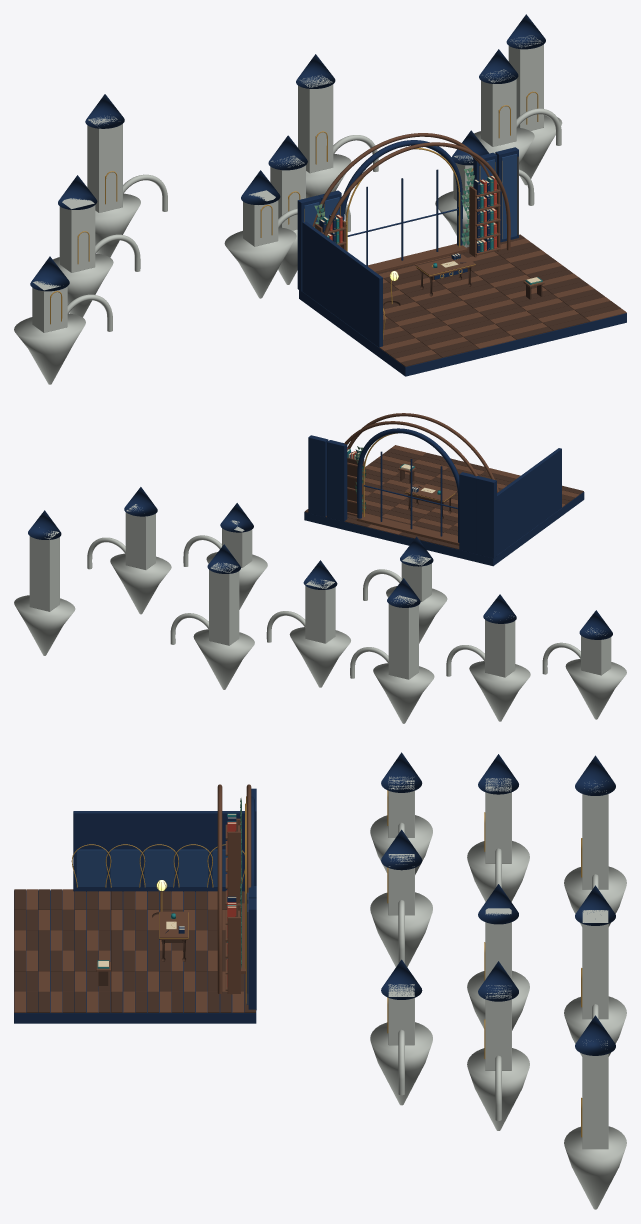
Rendered from attic-atelier.glb.
3 views of the same model, one above another, from view 1: azimuth 30°, elevation 25°; view 2: azimuth 150°, elevation 25°; view 3: azimuth 270°, elevation 25° (orthographic). The views are drawn at different scales.
Parts seen in each view (by area): view 1: Attic_Atelier_Atelier_stone, Attic_Atelier_Atelier_navy, Attic_Atelier_Atelier_wood, Attic_Atelier_Atelier_wood2, Attic_Atelier_Atelier_gold, Attic_Atelier_Atelier_blue, DeskPuzzle_Atelier_wood2, Attic_Atelier_Atelier_coat, Attic_Atelier_Atelier_teal; view 2: Attic_Atelier_Atelier_stone, Attic_Atelier_Atelier_navy, Attic_Atelier_Atelier_wood, Attic_Atelier_Atelier_wood2, DeskPuzzle_Atelier_wood2; view 3: Attic_Atelier_Atelier_stone, Attic_Atelier_Atelier_navy, Attic_Atelier_Atelier_wood, Attic_Atelier_Atelier_wood2, Attic_Atelier_Atelier_blue, Attic_Atelier_Atelier_gold, DeskPuzzle_Atelier_wood2.
Boxes of the visible parts, left/top/right/bottom form: Attic_Atelier_Atelier_stone: left=14, top=35, right=562, bottom=384; Attic_Atelier_Atelier_navy: left=30, top=14, right=626, bottom=376; Attic_Atelier_Atelier_wood: left=318, top=186, right=620, bottom=366; Attic_Atelier_Atelier_wood2: left=312, top=133, right=626, bottom=362; Attic_Atelier_Atelier_gold: left=50, top=91, right=538, bottom=339; Attic_Atelier_Atelier_blue: left=304, top=154, right=516, bottom=239; DeskPuzzle_Atelier_wood2: left=416, top=254, right=475, bottom=277; Attic_Atelier_Atelier_coat: left=327, top=175, right=496, bottom=251; Attic_Atelier_Atelier_teal: left=322, top=176, right=493, bottom=251; Attic_Atelier_Atelier_stone: left=14, top=504, right=626, bottom=723; Attic_Atelier_Atelier_navy: left=28, top=428, right=612, bottom=639; Attic_Atelier_Atelier_wood: left=304, top=448, right=583, bottom=549; Attic_Atelier_Atelier_wood2: left=344, top=413, right=579, bottom=545; DeskPuzzle_Atelier_wood2: left=404, top=483, right=454, bottom=502; Attic_Atelier_Atelier_stone: left=370, top=776, right=626, bottom=1209; Attic_Atelier_Atelier_navy: left=14, top=752, right=615, bottom=1055; Attic_Atelier_Atelier_wood: left=14, top=819, right=255, bottom=1012; Attic_Atelier_Atelier_wood2: left=14, top=784, right=251, bottom=1012; Attic_Atelier_Atelier_blue: left=76, top=849, right=248, bottom=1004; Attic_Atelier_Atelier_gold: left=71, top=790, right=582, bottom=1137; DeskPuzzle_Atelier_wood2: left=159, top=911, right=188, bottom=939.
Size of the model in its own units: 34 by 11.79 by 25.3.
